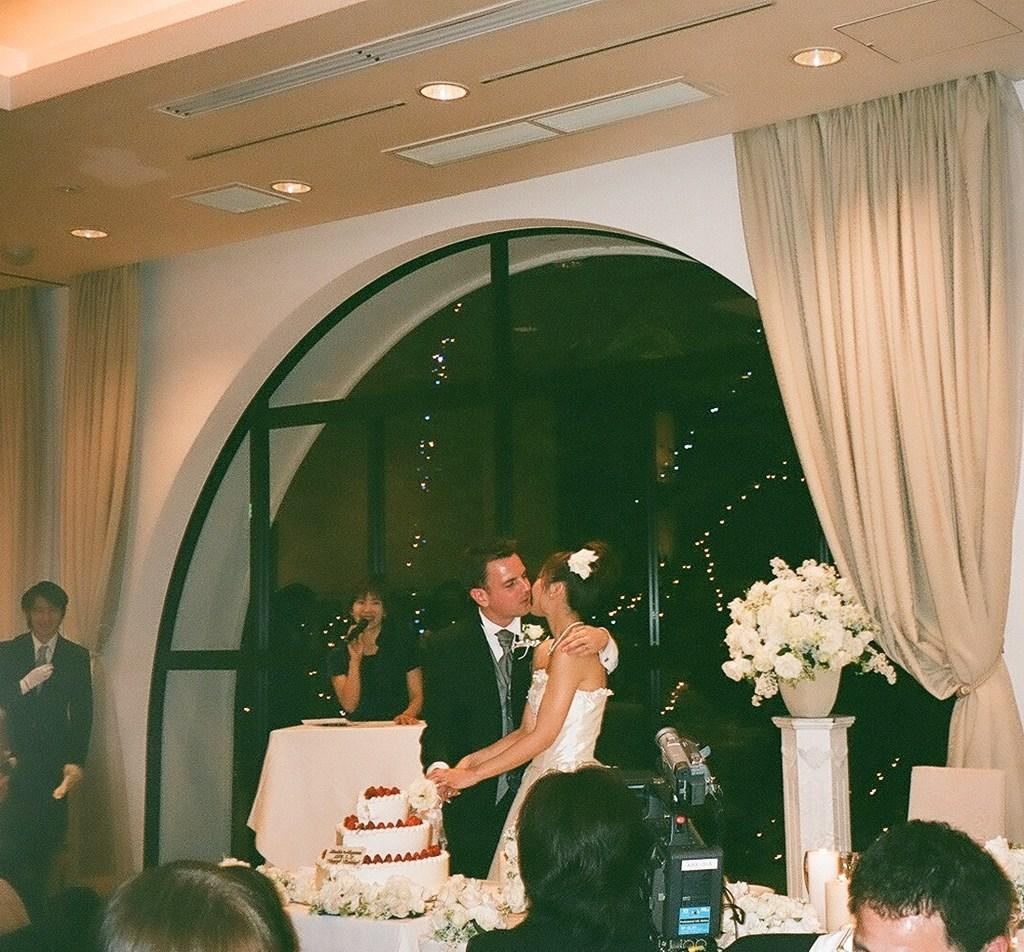Sem Máscara: (477, 551, 530, 618), (852, 911, 940, 948), (27, 596, 62, 639), (352, 590, 383, 626), (526, 576, 545, 617)
